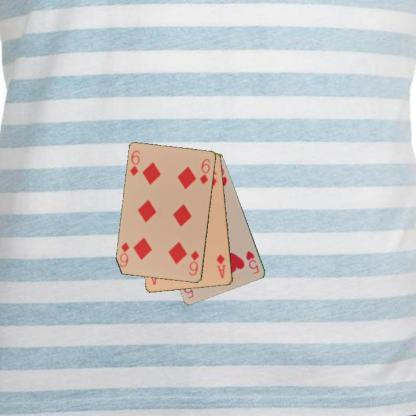5h: (243, 248, 261, 276)
6d: (186, 248, 200, 277), (128, 148, 141, 177)
Ad: (214, 251, 227, 280)
